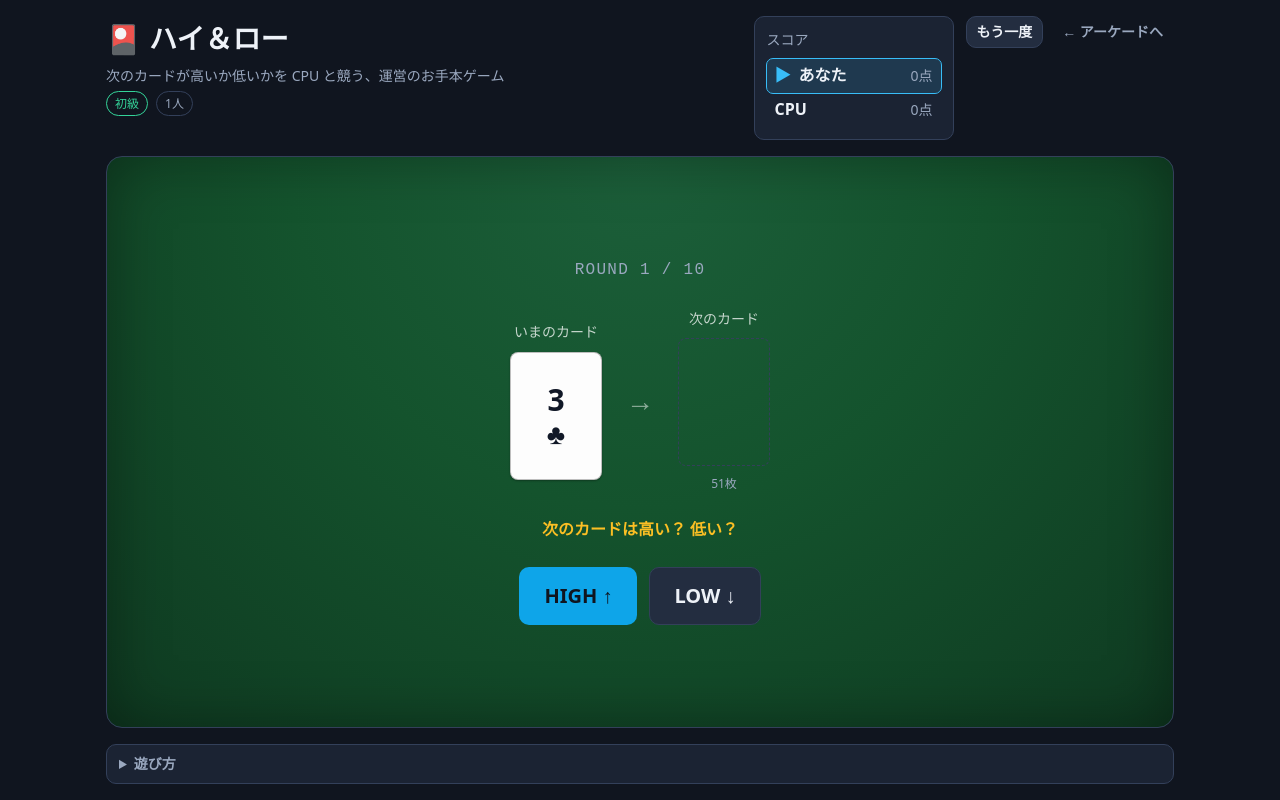
Test: ExampleGame › HIGH を押すと自分と CPU の予想が表示される
Click the button "HIGH ↑": [578, 596] box [519, 567, 638, 625]
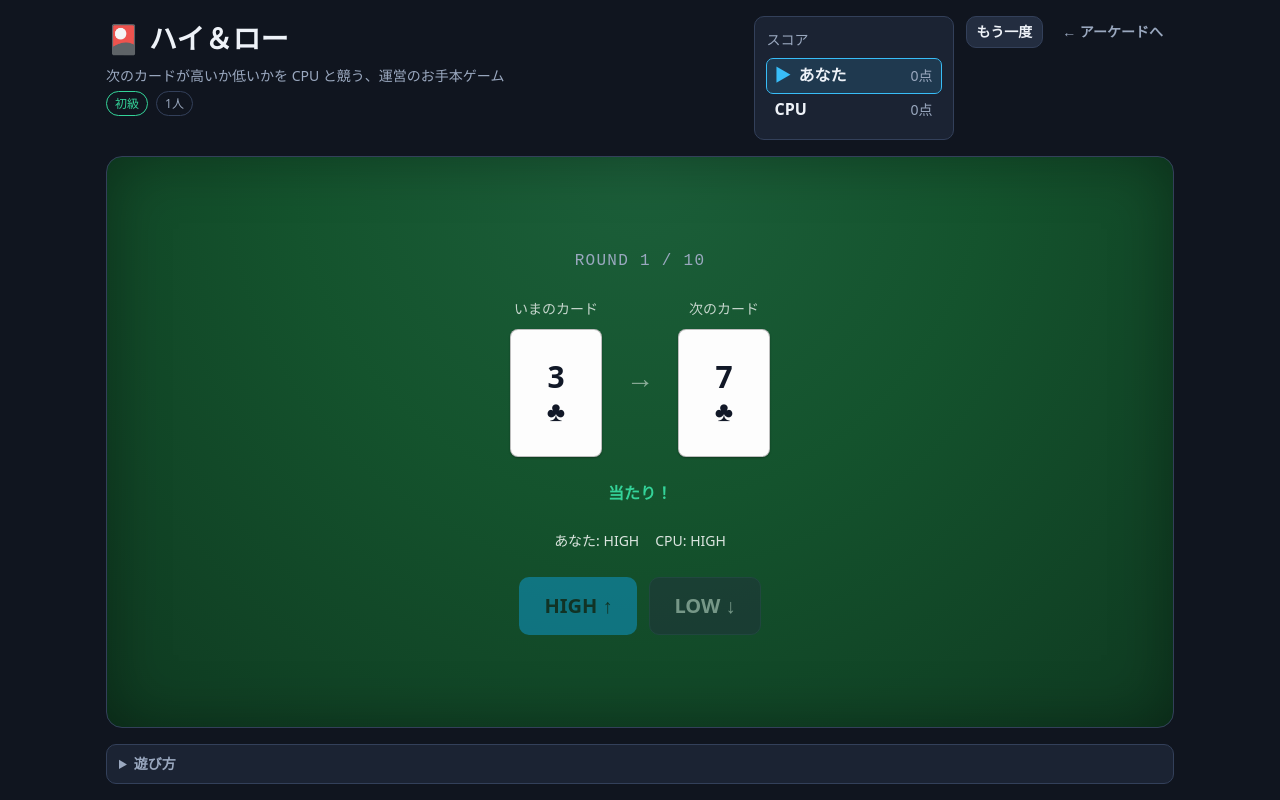
Now the text "あなた: HIGH" is shown, box [554, 530, 639, 553]
Now the text "CPU: HIGH" is shown, box [655, 530, 726, 553]
